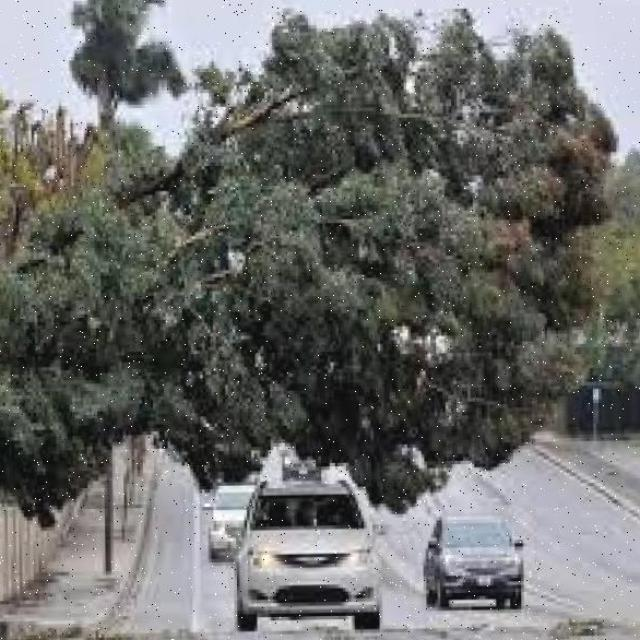fallen_object: (2, 123, 598, 403)
